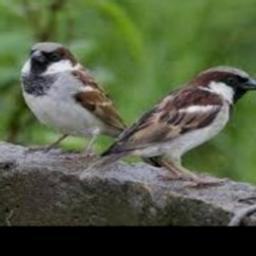Sparrow: (75, 64, 256, 182), (20, 41, 166, 166)
